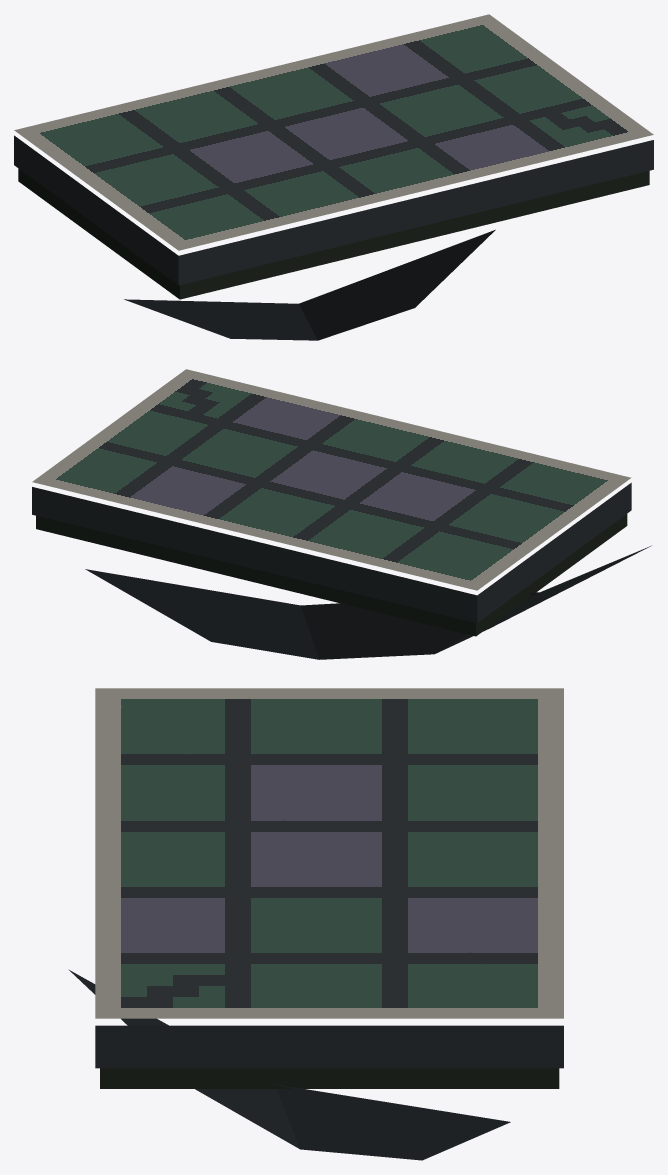
The model's file is room5x3.glb.
3 views of the same model, one above another, from view 1: azimuth 30°, elevation 25°; view 2: azimuth 150°, elevation 25°; view 3: azimuth 270°, elevation 25° (orthographic). The views are drawn at different scales.
Visible parts, largest first — view 1: Top, Wall, Root, Footing; view 2: Top, Wall, Root, Footing; view 3: Top, Wall, Root, Footing.
Part boxes in pixels (bbox=[...]): Top: bbox=[14, 14, 653, 250]; Wall: bbox=[14, 135, 653, 285]; Root: bbox=[124, 229, 495, 340]; Footing: bbox=[18, 168, 649, 299]; Top: bbox=[32, 369, 631, 590]; Wall: bbox=[32, 482, 631, 623]; Root: bbox=[85, 545, 651, 659]; Footing: bbox=[36, 514, 627, 636]; Top: bbox=[95, 688, 563, 1018]; Wall: bbox=[95, 1025, 563, 1068]; Root: bbox=[68, 969, 510, 1160]; Footing: bbox=[100, 1068, 559, 1088].
Bounding box in the file's own units: 5.81 × 1.5 × 4.1.
4 materials, 1 textured.
